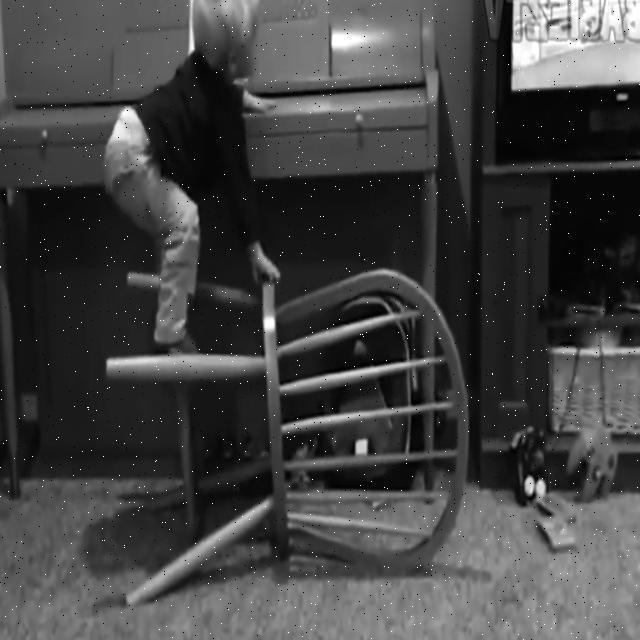child: (102, 0, 280, 353)
